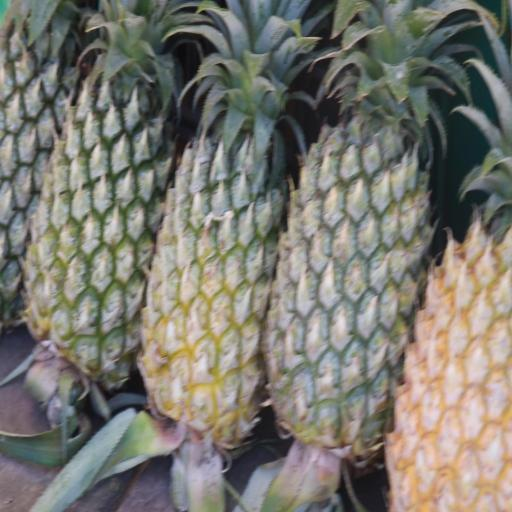------------------------------: (159, 0, 312, 446)
Pineapple - v8 v1: (383, 136, 512, 512)
